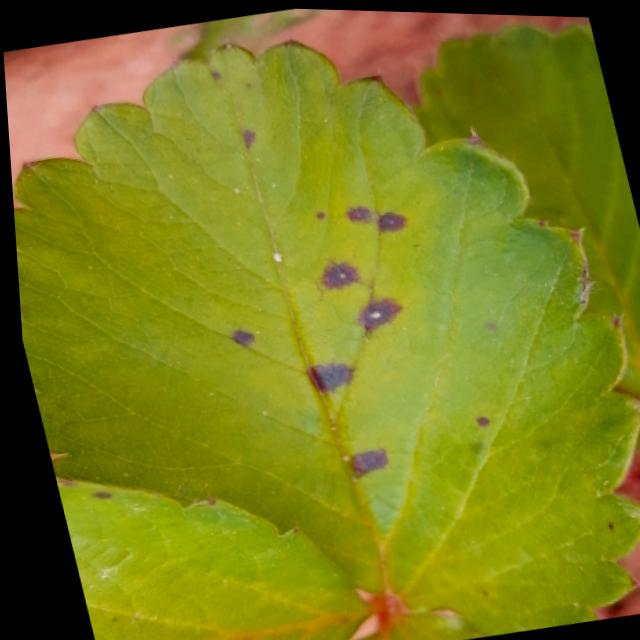Leaf Spot: (9, 35, 640, 633), (49, 479, 364, 640)
